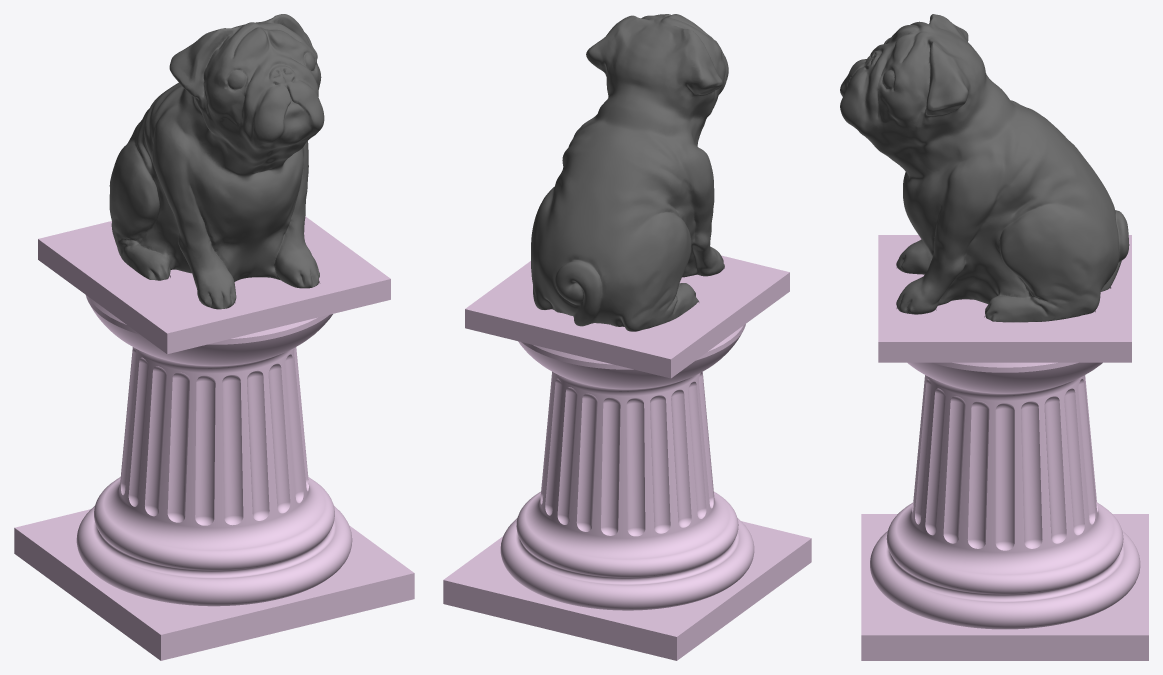
File: pug-statue.glb
3 views of the same model, side by side, from view 1: azimuth 30°, elevation 25°; view 2: azimuth 150°, elevation 25°; view 3: azimuth 270°, elevation 25° (orthographic). The views are drawn at different scales.
Parts seen in each view (by area): view 1: buddy.SLDPRT; view 2: buddy.SLDPRT; view 3: buddy.SLDPRT.
Part boxes in pixels (x1,y1,x2,y2): buddy.SLDPRT: (14,14,414,660); buddy.SLDPRT: (443,14,811,660); buddy.SLDPRT: (840,14,1148,660).
Bounding box in the file's own units: 0.051 × 0.1122 × 0.0548.
